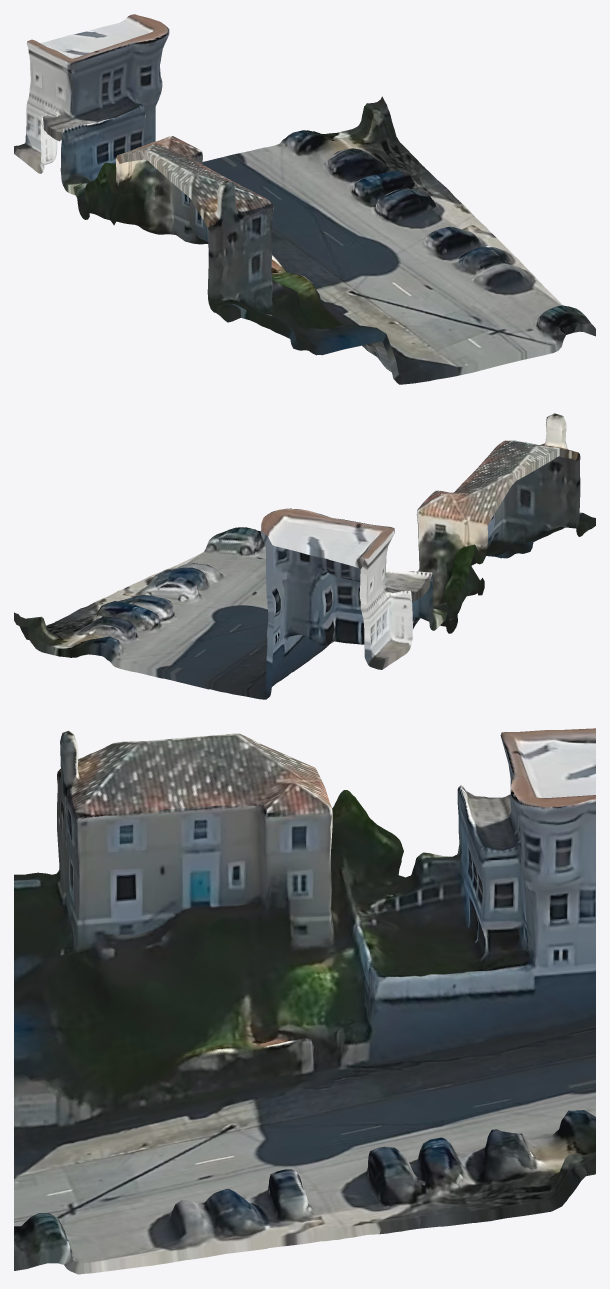
Rendered from z20-167720-405192-h0-yup-uvflip-v3-world.glb.
3 views of the same model, one above another, from view 1: azimuth 30°, elevation 25°; view 2: azimuth 150°, elevation 25°; view 3: azimuth 270°, elevation 25° (orthographic). The views are drawn at different scales.
Bounding box in the file's own units: 30.16 × 18.28 × 30.32.
1 material, 1 textured.
